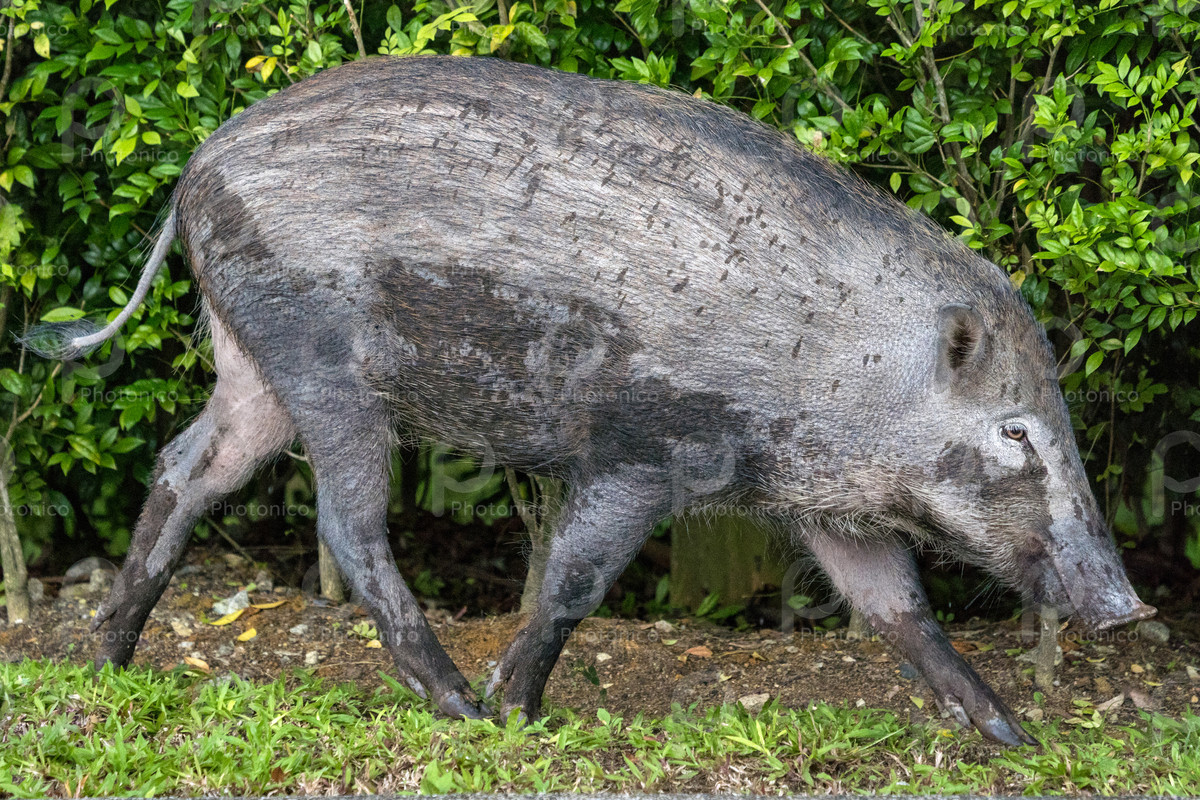boar: (27, 37, 1177, 773)
